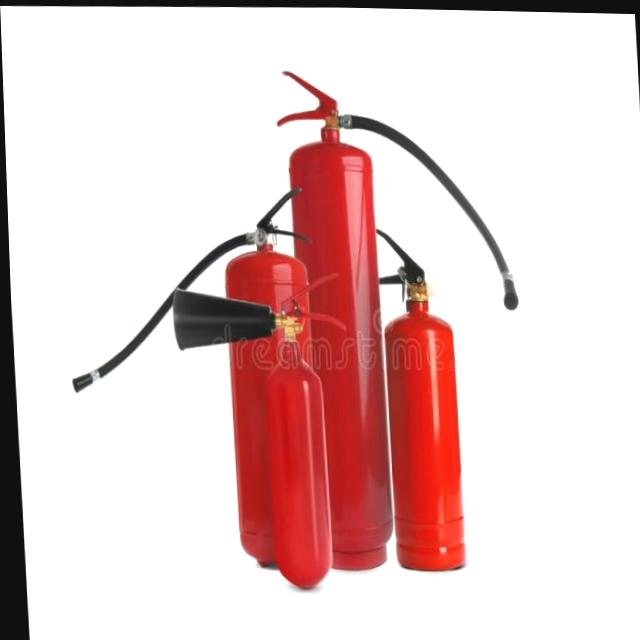FireExtinguisher: (269, 58, 535, 574), (54, 175, 331, 579), (162, 258, 362, 596), (353, 221, 486, 576)
